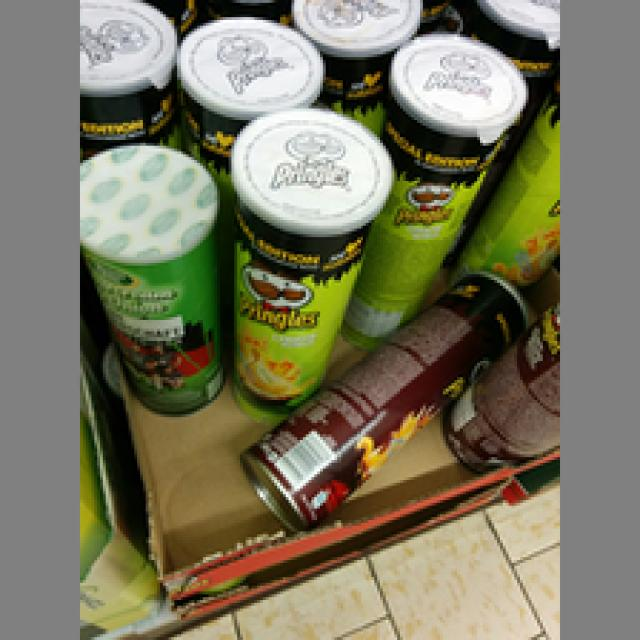groceries: (237, 271, 523, 523), (348, 28, 523, 346), (220, 103, 386, 411), (77, 140, 223, 414)
